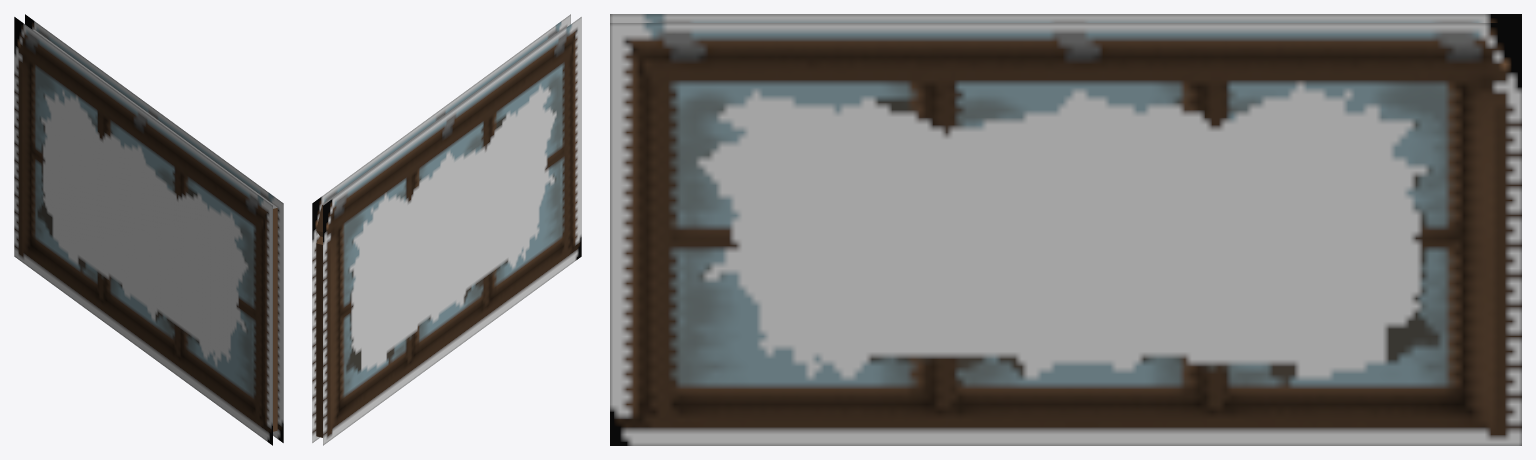
File: pz_native_fixtures_windows_wood_66_frame.obj
3 views of the same model, side by side, from view 1: azimuth 30°, elevation 25°; view 2: azimuth 150°, elevation 25°; view 3: azimuth 270°, elevation 25° (orthographic). The views are drawn at different scales.
Visible parts, largest first — view 1: pz_native_fixtures_windows_wood_66_frame; view 2: pz_native_fixtures_windows_wood_66_frame; view 3: pz_native_fixtures_windows_wood_66_frame.
Part boxes in pixels (x1=…): pz_native_fixtures_windows_wood_66_frame: x1=14, y1=14, x2=283, y2=445; pz_native_fixtures_windows_wood_66_frame: x1=312, y1=14, x2=581, y2=445; pz_native_fixtures_windows_wood_66_frame: x1=610, y1=14, x2=1521, y2=445.
Bounding box in the file's own units: 0.04 × 0.875 × 1.71.
Materials: 1 (1 with a texture image).
